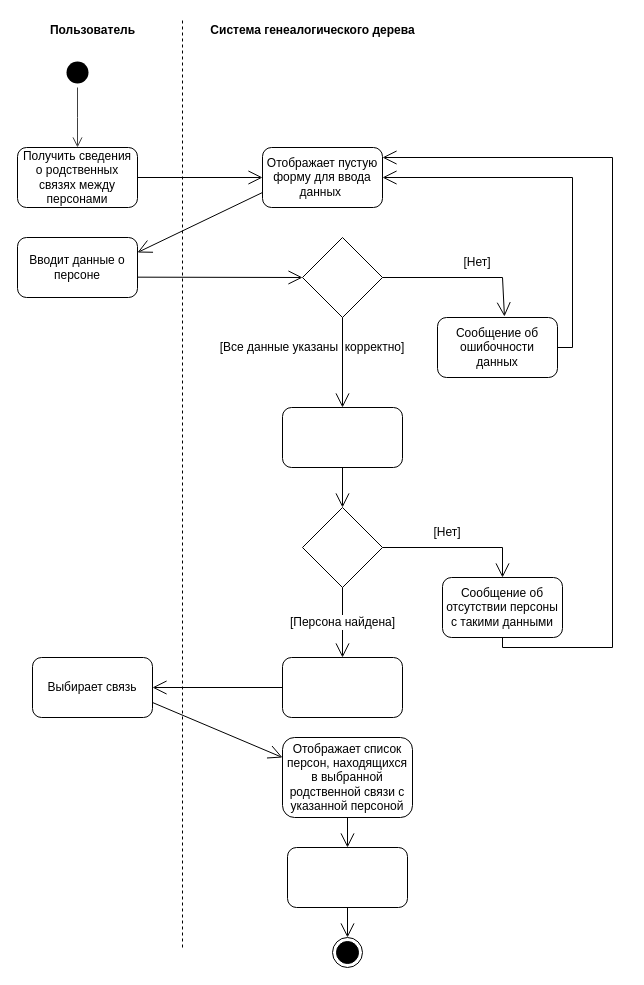
This 644x985 diagram has some shape labels left out. Here are the shapes that lost their labels. From the top down, the centre of each, then its label:
At point (342, 437): "Выполняет поиск персоны".
At point (342, 687): "Отображает на форме поле для выбора типа связи".
At point (347, 877): "Уведомление пользователя".
